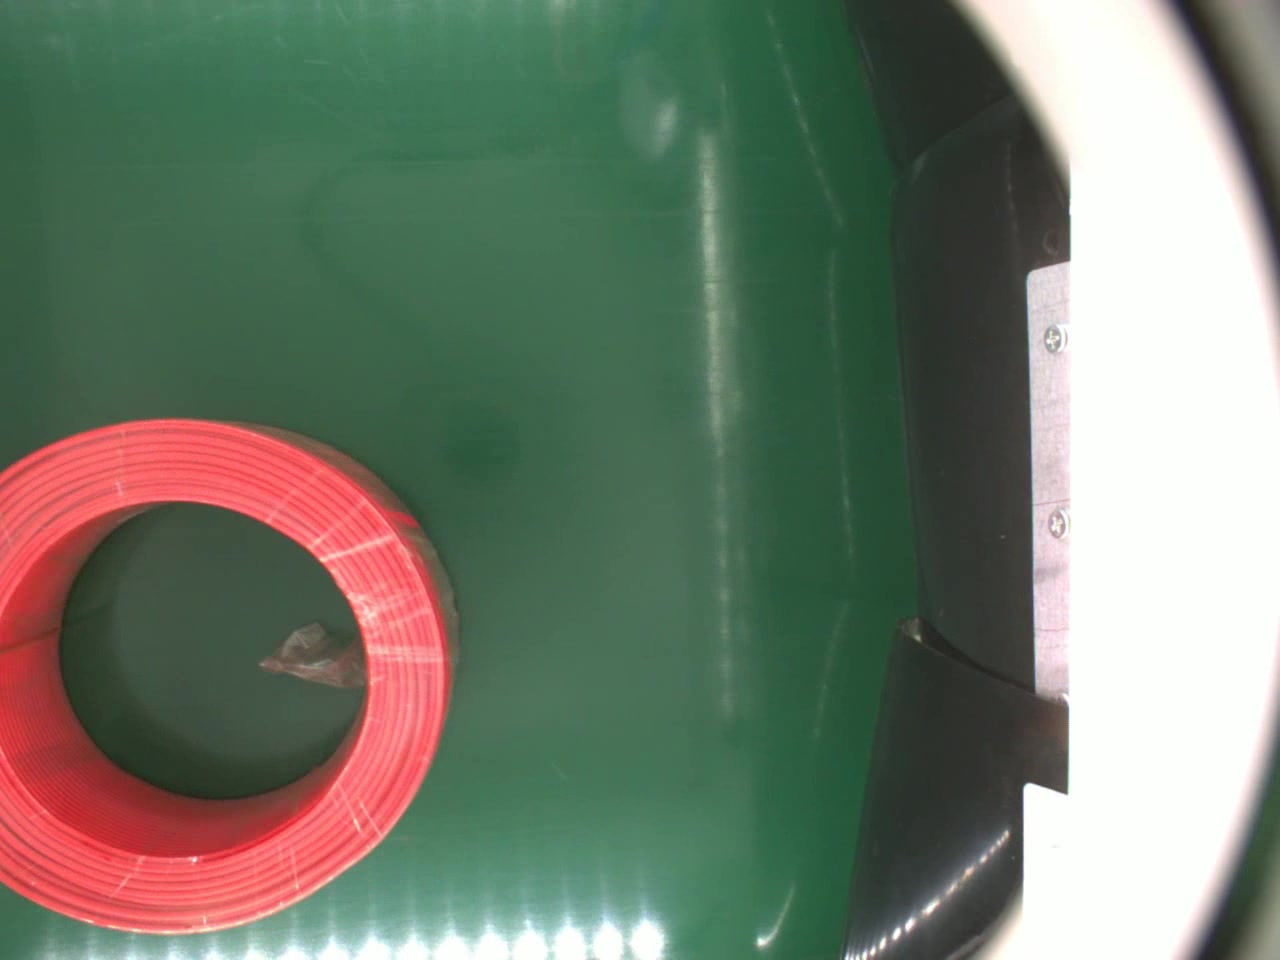red: (0, 412, 458, 934)
